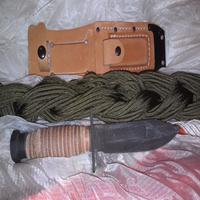knife: (7, 123, 181, 168)
